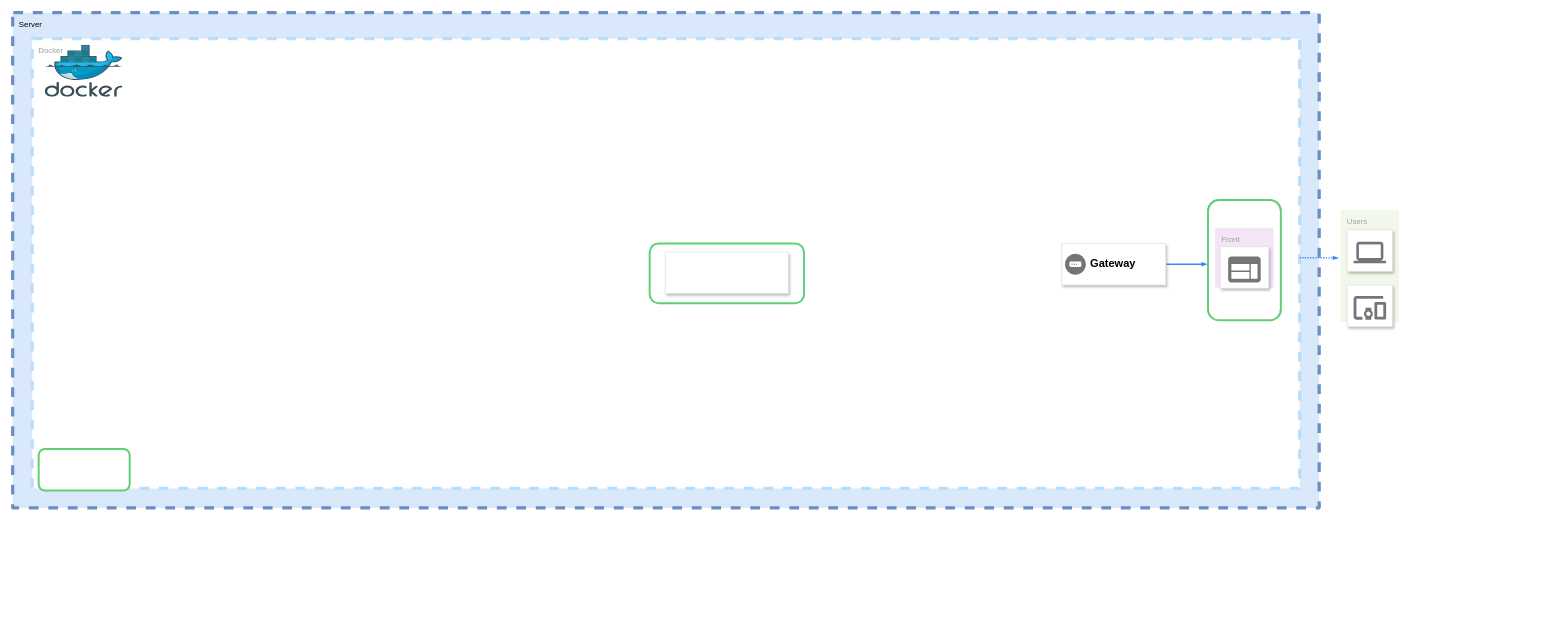
This 1558x622 diagram has some shape labels left out. The centre of each missing label's shape, as x and y in pixels:
"Eureka Client 이중화 구조" goes at point 83,469.
"Service" goes at point 727,273.
